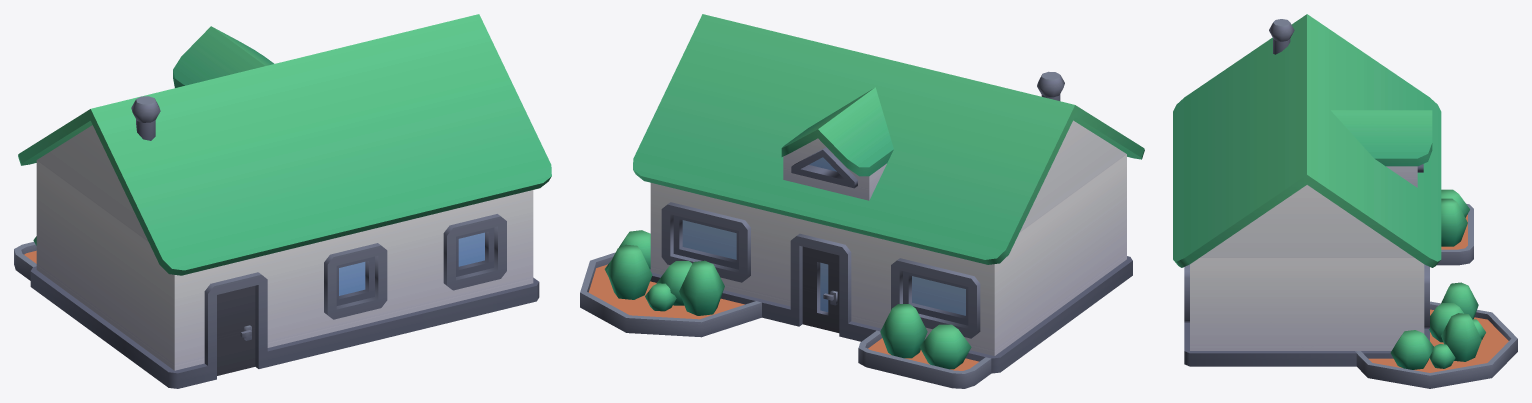
Rendered from kenney-city-suburban-building-type-g.glb.
3 renders of one model, left to right at view 1: azimuth 30°, elevation 25°; view 2: azimuth 150°, elevation 25°; view 3: azimuth 270°, elevation 25°, orthographic. The views are drawn at different scales.
Parts seen in each view (by area): view 1: building-type-g; view 2: building-type-g; view 3: building-type-g.
Part boxes in pixels (x1,y1,x2,y2): building-type-g: (14,14,551,388); building-type-g: (580,14,1144,388); building-type-g: (1173,14,1517,388).
Bounding box in the file's own units: 1.45 × 0.7683 × 1.18.
1 material, 1 textured.
